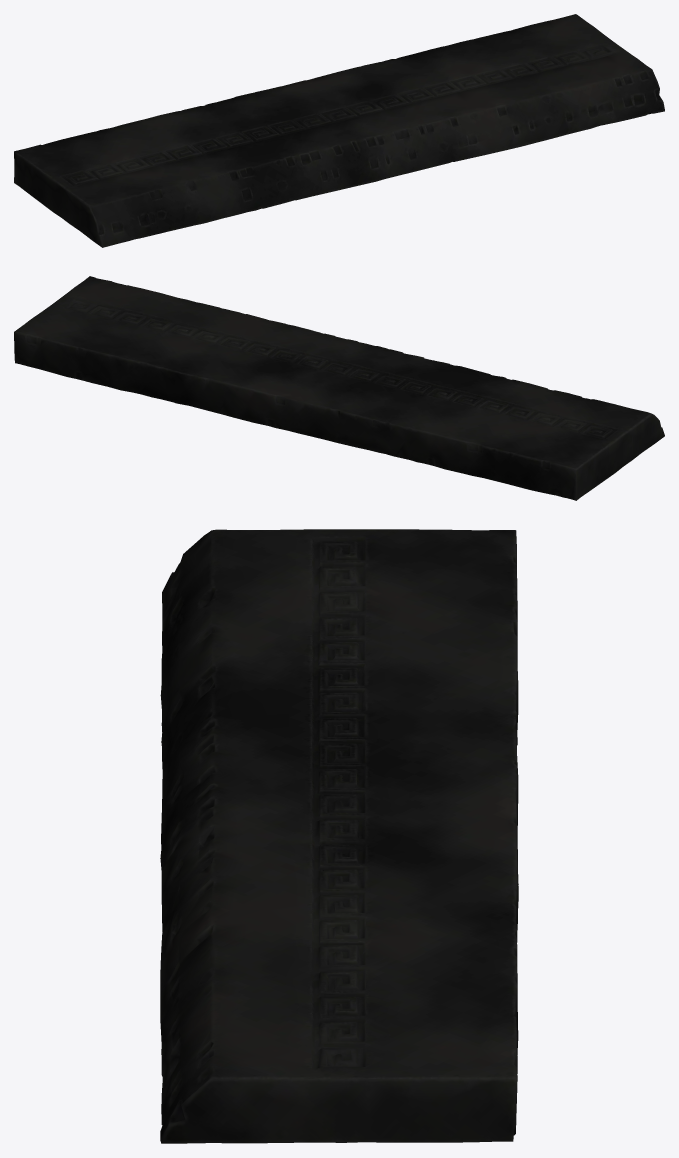
The model's file is frame-basalt.glb.
3 views of the same model, one above another, from view 1: azimuth 30°, elevation 25°; view 2: azimuth 150°, elevation 25°; view 3: azimuth 270°, elevation 25° (orthographic). The views are drawn at different scales.
Visible parts, largest first — view 1: frame; view 2: frame; view 3: frame.
Boxes of the visible parts, x1=… form: frame: x1=14, y1=14, x2=664, y2=247; frame: x1=14, y1=276, x2=664, y2=500; frame: x1=160, y1=529, x2=518, y2=1143.
Size of the model in its own units: 2 by 0.1139 by 0.5517.
Materials: 1 (1 with a texture image).
